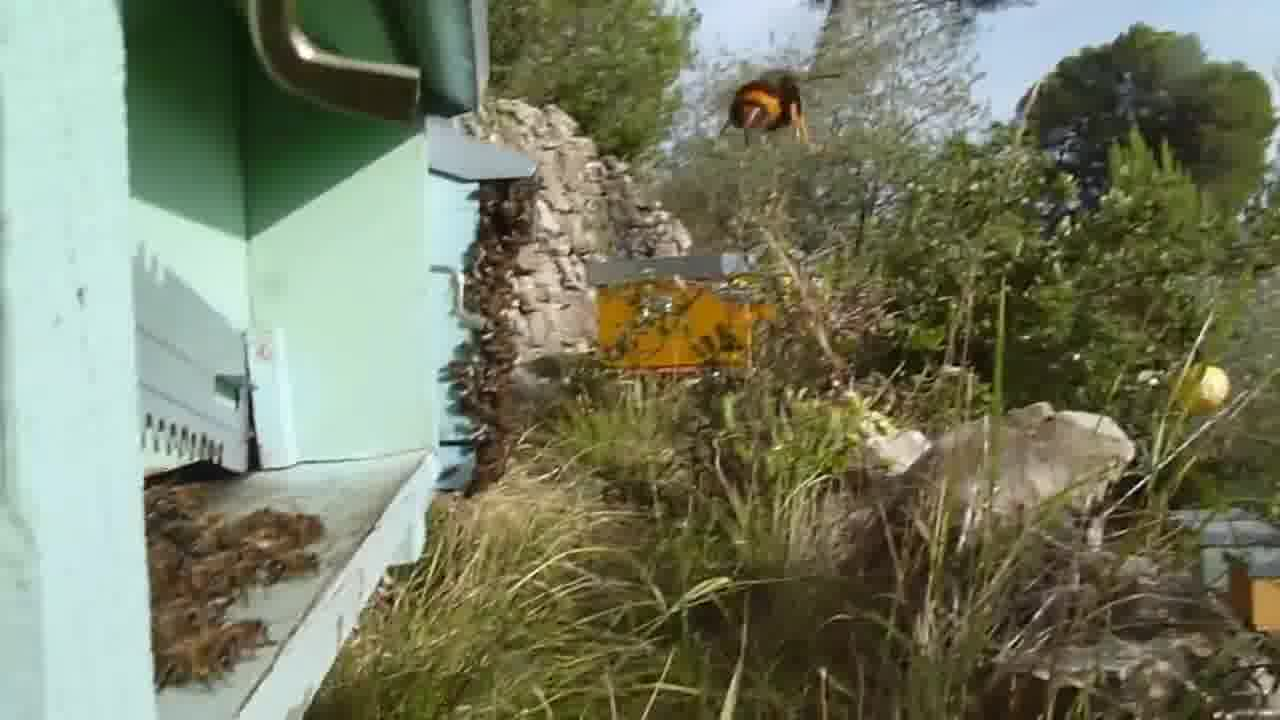bee: (151, 584, 290, 695), (207, 498, 328, 577), (142, 482, 213, 583), (466, 258, 544, 341), (448, 345, 517, 436), (463, 185, 546, 252)
hornet: (711, 50, 825, 149)
